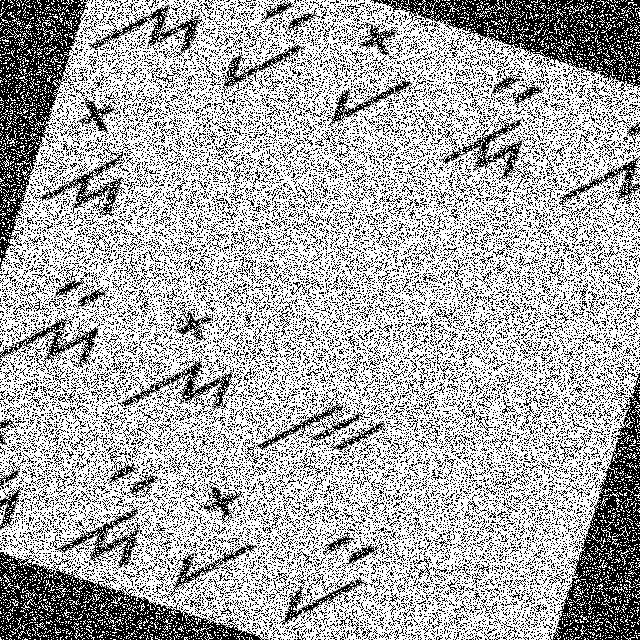dan: (49, 443, 178, 583), (427, 53, 550, 191)
do: (30, 83, 166, 239), (0, 399, 53, 542)
nan: (0, 255, 121, 394), (547, 90, 639, 236)
no: (113, 292, 258, 445), (82, 0, 224, 83)
pan: (268, 510, 404, 639), (210, 0, 325, 117)
po: (317, 14, 443, 154), (162, 471, 280, 611)
